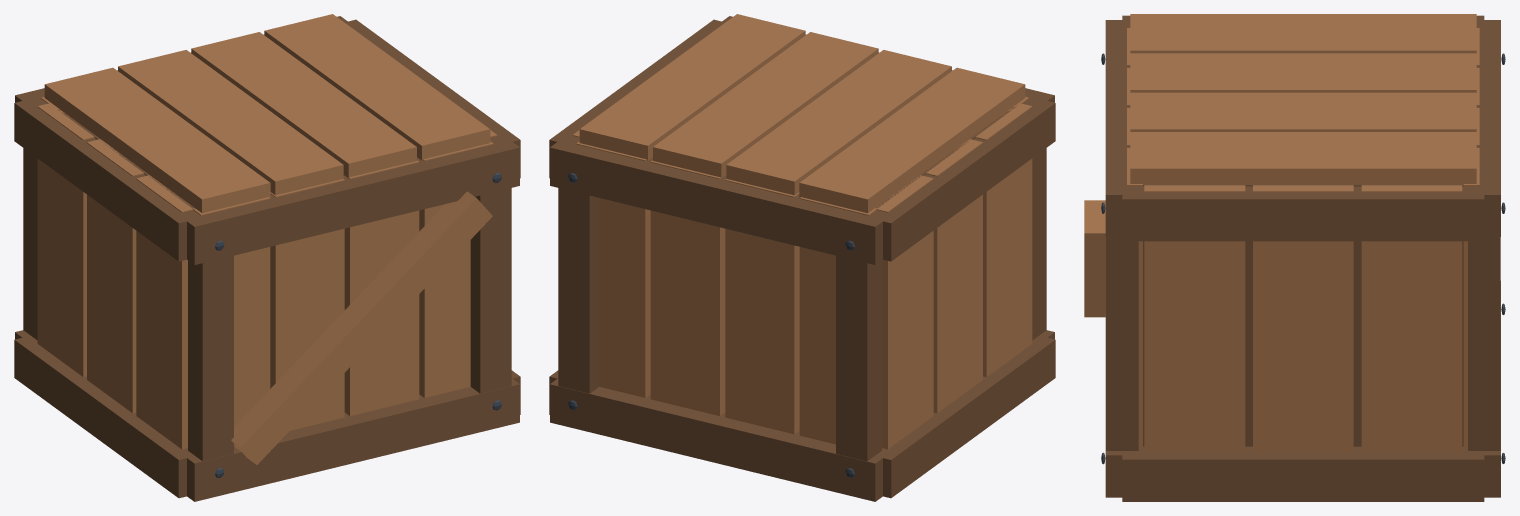
Rendered from prop_crate.glb.
3 renders of one model, left to right at view 1: azimuth 30°, elevation 25°; view 2: azimuth 150°, elevation 25°; view 3: azimuth 270°, elevation 25°, orthographic. The views are drawn at different scales.
Parts seen in each view (by area): view 1: prop_crate__Front frame -1 0.278, prop_crate__Front diagonal brace, prop_crate__Front frame -1 -0.278, prop_crate__Lid plank 0, prop_crate__Lid plank 3, prop_crate__Lid plank 2, prop_crate__Lid plank 1, prop_crate__Side plank -1 0, prop_crate__Front plank -1 1, prop_crate__Side plank -1 1, prop_crate__Side plank -1 2, prop_crate__Front plank -1 2 (+8 smaller); view 2: prop_crate__Front frame 1 0.278, prop_crate__Front frame 1 -0.278, prop_crate__Front plank 1 2, prop_crate__Front plank 1 1, prop_crate__Lid plank 0, prop_crate__Lid plank 3, prop_crate__Lid plank 2, prop_crate__Lid plank 1, prop_crate__Side plank -1 2, prop_crate__Front plank 1 3, prop_crate__Side plank -1 1, prop_crate__Side plank -1 0 (+7 smaller); view 3: prop_crate__Side plank 1 0, prop_crate__Side plank 1 2, prop_crate__Side plank 1 1, prop_crate__Side frame 1 -0.278, prop_crate__Side frame 1 0.278, prop_crate__Lid plank 3, prop_crate__Lid plank 0, prop_crate__Lid plank 1, prop_crate__Lid plank 2, prop_crate__Corner brace 1 0.341, prop_crate__Corner brace -1 0.341, prop_crate__Crate dark core (+7 smaller).
Boxes of the visible parts, bbox=[...] form: prop_crate__Front frame -1 0.278: bbox=[179, 142, 519, 265]; prop_crate__Front diagonal brace: bbox=[231, 191, 492, 464]; prop_crate__Front frame -1 -0.278: bbox=[179, 378, 519, 501]; prop_crate__Lid plank 0: bbox=[44, 67, 270, 213]; prop_crate__Lid plank 3: bbox=[264, 14, 490, 160]; prop_crate__Lid plank 2: bbox=[191, 32, 416, 177]; prop_crate__Lid plank 1: bbox=[118, 50, 343, 195]; prop_crate__Side plank -1 0: bbox=[136, 175, 193, 449]; prop_crate__Front plank -1 1: bbox=[270, 179, 344, 430]; prop_crate__Side plank -1 1: bbox=[87, 139, 143, 413]; prop_crate__Side plank -1 2: bbox=[37, 103, 94, 377]; prop_crate__Front plank -1 2: bbox=[343, 160, 419, 415]; prop_crate__Front frame 1 0.278: bbox=[550, 137, 890, 265]; prop_crate__Front frame 1 -0.278: bbox=[550, 378, 890, 501]; prop_crate__Front plank 1 2: bbox=[650, 160, 726, 415]; prop_crate__Front plank 1 1: bbox=[725, 179, 799, 434]; prop_crate__Lid plank 0: bbox=[799, 67, 1025, 213]; prop_crate__Lid plank 3: bbox=[579, 14, 805, 160]; prop_crate__Lid plank 2: bbox=[653, 32, 878, 177]; prop_crate__Lid plank 1: bbox=[726, 50, 951, 195]; prop_crate__Side plank -1 2: bbox=[876, 175, 933, 449]; prop_crate__Front plank 1 3: bbox=[576, 141, 650, 397]; prop_crate__Side plank -1 1: bbox=[926, 139, 982, 413]; prop_crate__Side plank -1 0: bbox=[975, 103, 1032, 377]; prop_crate__Side plank 1 0: bbox=[1144, 185, 1245, 452]; prop_crate__Side plank 1 2: bbox=[1361, 185, 1462, 452]; prop_crate__Side plank 1 1: bbox=[1253, 185, 1353, 452]; prop_crate__Side frame 1 -0.278: bbox=[1122, 446, 1484, 501]; prop_crate__Side frame 1 0.278: bbox=[1122, 186, 1484, 241]; prop_crate__Lid plank 3: bbox=[1130, 132, 1476, 183]; prop_crate__Lid plank 0: bbox=[1130, 14, 1476, 53]; prop_crate__Lid plank 1: bbox=[1130, 53, 1476, 92]; prop_crate__Lid plank 2: bbox=[1130, 92, 1476, 131]; prop_crate__Corner brace 1 0.341: bbox=[1468, 237, 1500, 450]; prop_crate__Corner brace -1 0.341: bbox=[1106, 237, 1138, 450]; prop_crate__Crate dark core: bbox=[1143, 184, 1463, 446].
Size of the model in its own units: 0.84 by 0.6825 by 0.8145.
